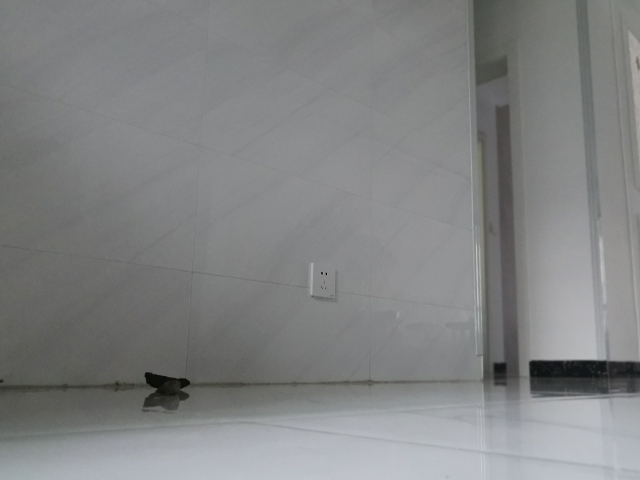feces: (142, 371, 192, 397)
